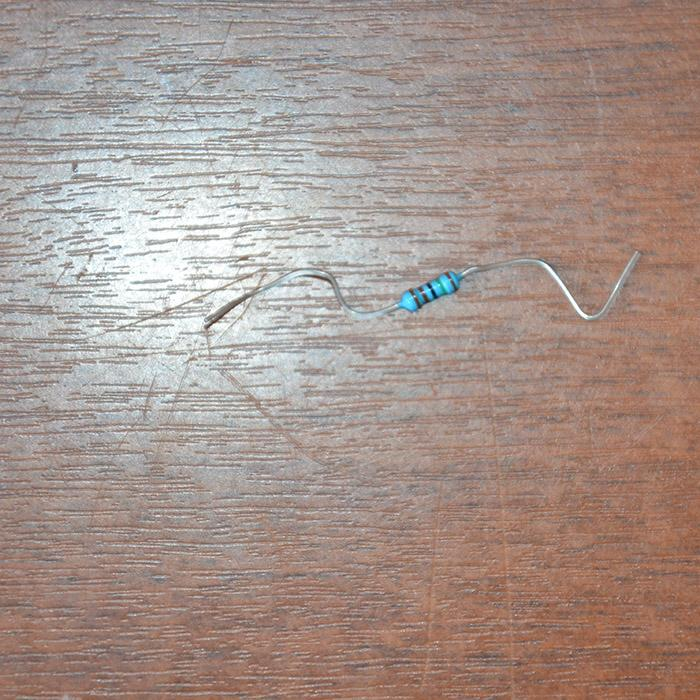resistor: (397, 270, 461, 312)
